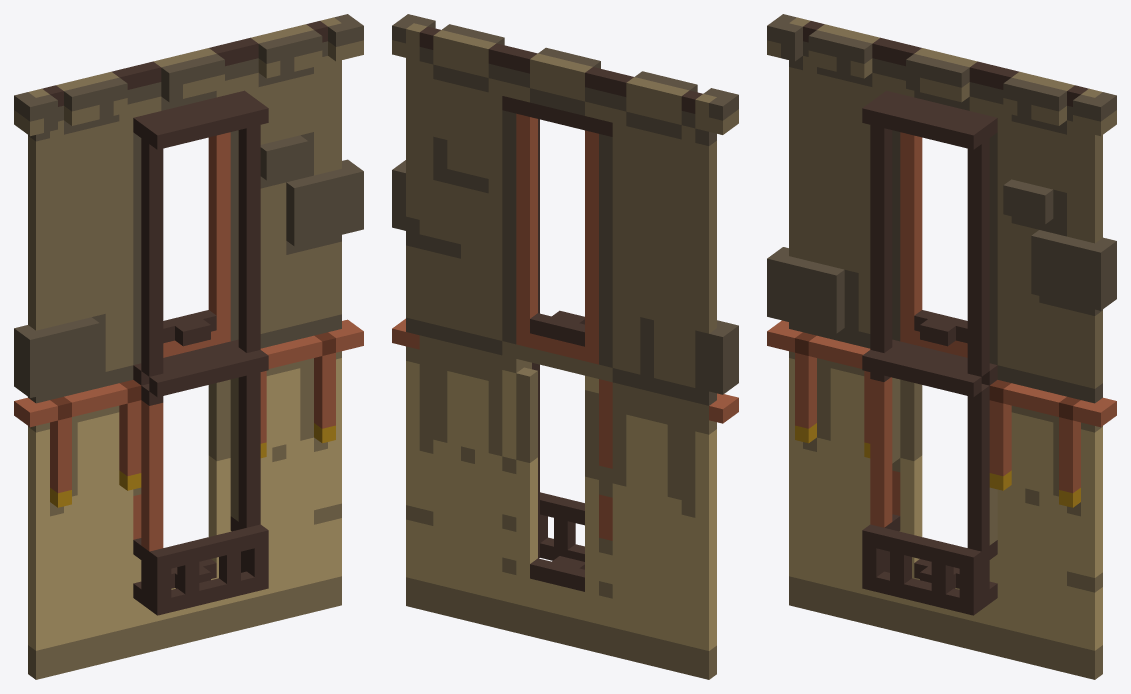
File: TallBuilding02-6.obj
The picture shows the model from 3 angles, left to right: view 1: azimuth 30°, elevation 25°; view 2: azimuth 150°, elevation 25°; view 3: azimuth 330°, elevation 25°; orthographic projection.
Bounding box in the file's own units: 2.4 × 4 × 0.4.
1 material, 1 textured.
